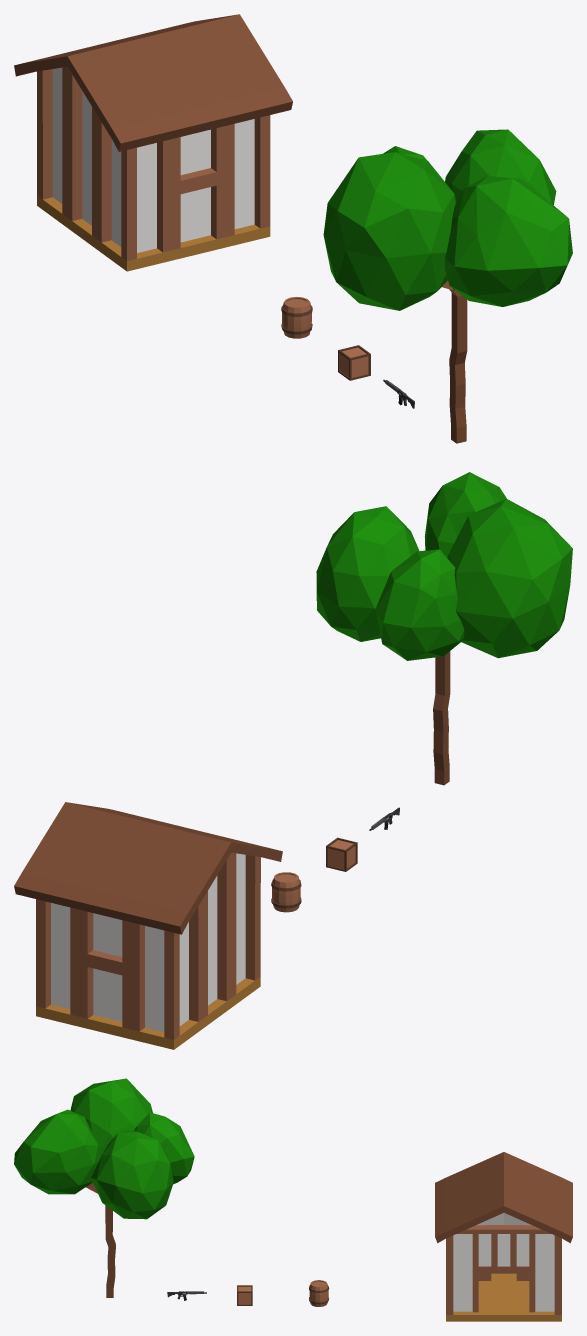
File: customAssets.fbx
3 views of the same model, one above another, from view 1: azimuth 30°, elevation 25°; view 2: azimuth 150°, elevation 25°; view 3: azimuth 270°, elevation 25° (orthographic). The views are drawn at different scales.
Visible parts, largest first — view 1: Hut, Tree, Barrel, Crate; view 2: Hut, Tree, Barrel, Crate; view 3: Hut, Tree, Barrel, Crate.
Part boxes in pixels (x1,y1,x2,y2): Hut: (14, 14, 292, 271); Tree: (323, 129, 572, 443); Barrel: (281, 297, 312, 338); Crate: (338, 345, 370, 380); Hut: (14, 802, 282, 1049); Tree: (316, 472, 572, 785); Barrel: (271, 872, 301, 912); Crate: (326, 837, 357, 871); Hut: (435, 1152, 572, 1321); Tree: (14, 1078, 194, 1297); Barrel: (309, 1280, 329, 1306); Crate: (237, 1285, 252, 1305).
Size of the model in its own units: 4615 by 6053 by 15137.
Materials: 1 (1 with a texture image).
